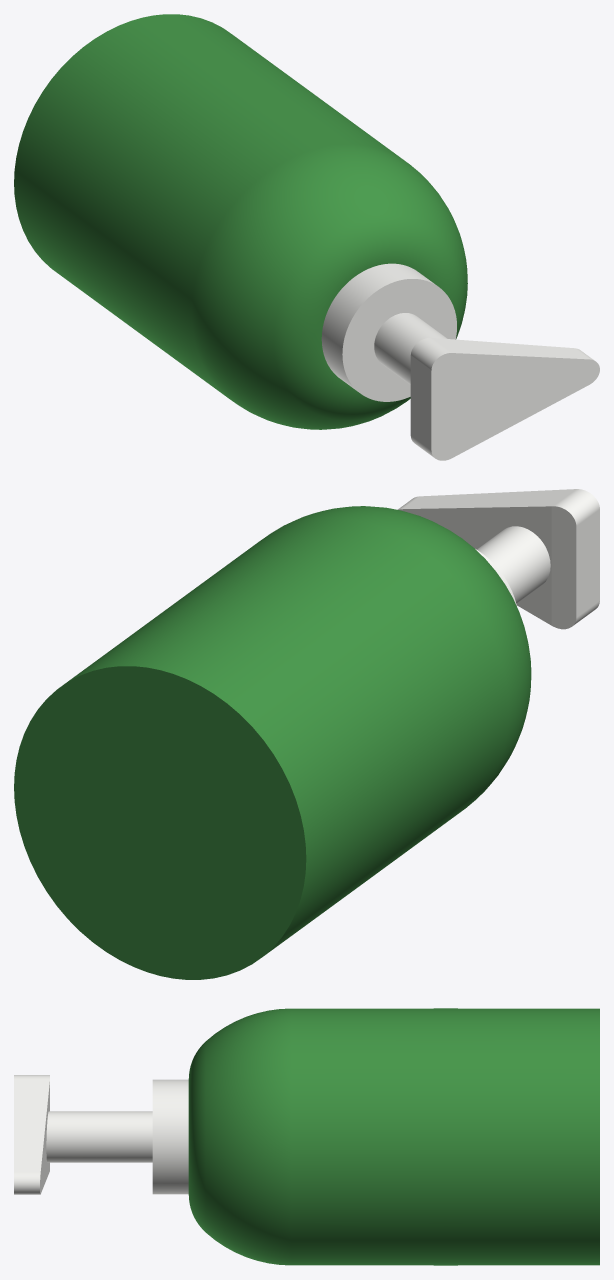
3 renders of one model, top to bottom at view 1: azimuth 30°, elevation 25°; view 2: azimuth 150°, elevation 25°; view 3: azimuth 270°, elevation 25°, orthographic. The views are drawn at different scales.
Parts seen in each view (by area): view 1: Body1, Body2, Body6, Body3, Body5; view 2: Body1, Body6, Body2, Body5; view 3: Body1, Body2, Body5, Body3, Body6.
Boxes of the visible parts, <box> form: Body1: <box>14,14,404,397</box>; Body2: <box>191,144,467,429</box>; Body6: <box>410,337,599,460</box>; Body3: <box>321,263,456,401</box>; Body5: <box>374,313,447,384</box>; Body1: <box>14,518,508,979</box>; Body6: <box>398,489,599,629</box>; Body2: <box>273,506,531,805</box>; Body5: <box>477,526,550,603</box>; Body1: <box>291,1008,599,1265</box>; Body2: <box>188,1008,291,1265</box>; Body5: <box>46,1111,152,1162</box>; Body3: <box>152,1079,188,1194</box>; Body6: <box>14,1075,49,1194</box>.
Bounding box in the file's own units: 50 × 50 × 114.
